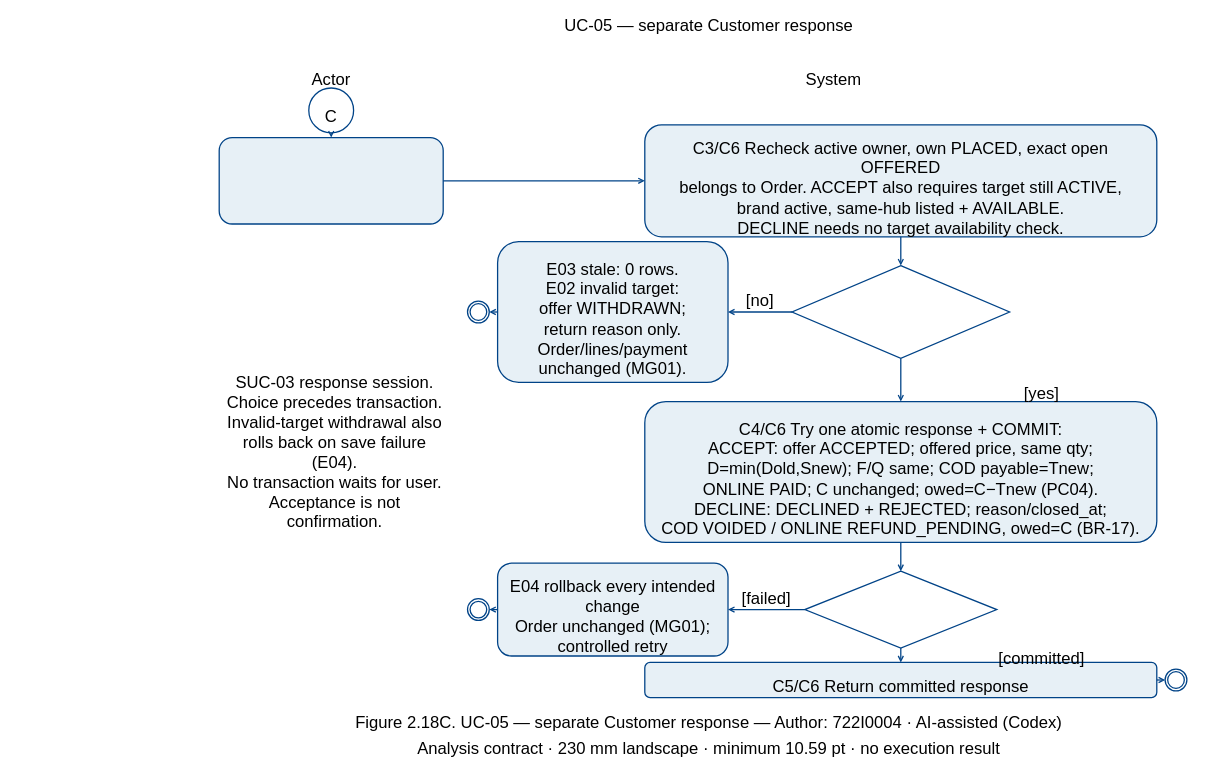
Some shapes in this 1219 by 769 pixel diagram are drawn without their labels. The shapes that lost their labels are listed below. From the top down, each one's centre as x and y in pixels, then its label:
At (331,180): "C1 Read own orders + offer C2 Review amounts; submit ACCEPT or DECLINE".
At (900,312): "Selected response eligible?".
At (900,609): "Atomic save?".
